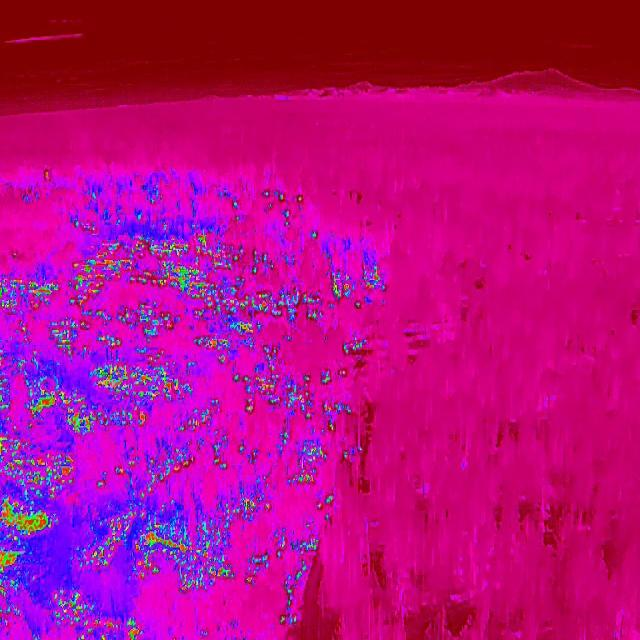fire: (38, 308, 240, 434), (82, 498, 264, 594), (68, 230, 234, 310), (233, 357, 354, 432), (0, 435, 76, 503), (47, 590, 150, 640), (0, 497, 53, 592), (232, 284, 322, 338), (114, 442, 202, 497), (273, 536, 320, 630), (320, 260, 393, 310), (230, 189, 308, 231), (0, 348, 39, 422), (0, 276, 60, 314), (284, 445, 328, 487), (233, 247, 276, 282), (210, 438, 246, 470), (312, 491, 340, 524), (340, 332, 374, 358)
